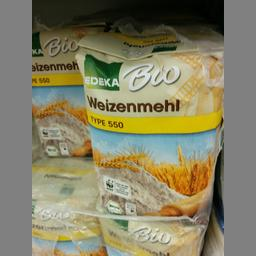flour: (74, 28, 220, 214)
